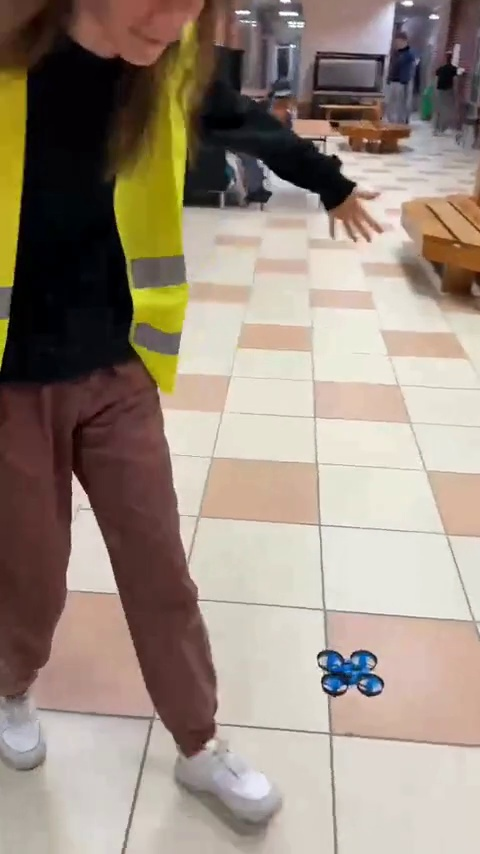drone: (318, 647, 384, 706)
no vest: (385, 31, 419, 122), (429, 51, 466, 122)
vest: (0, 4, 252, 812)
